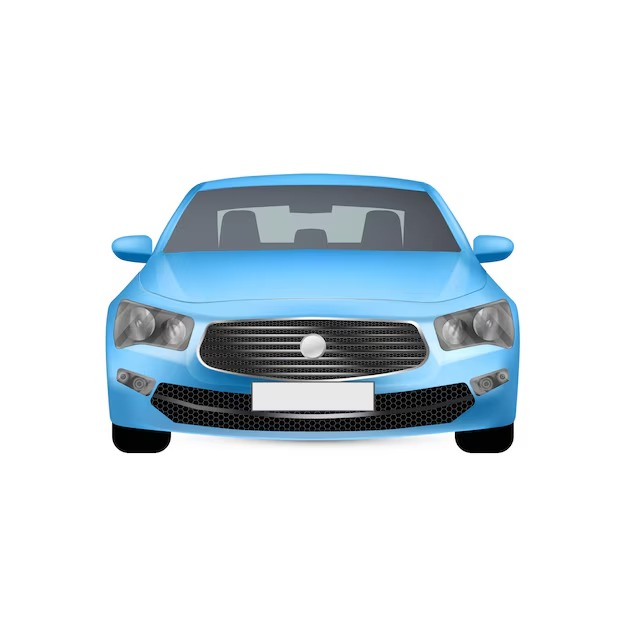car: (86, 164, 531, 437)
